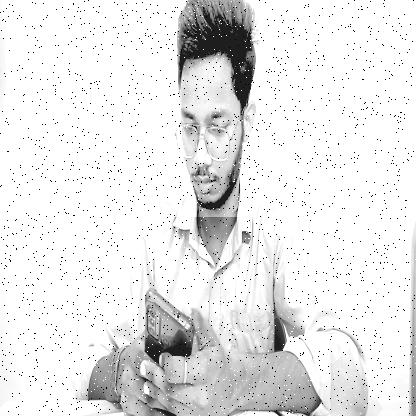Distracted: (172, 0, 257, 217)
